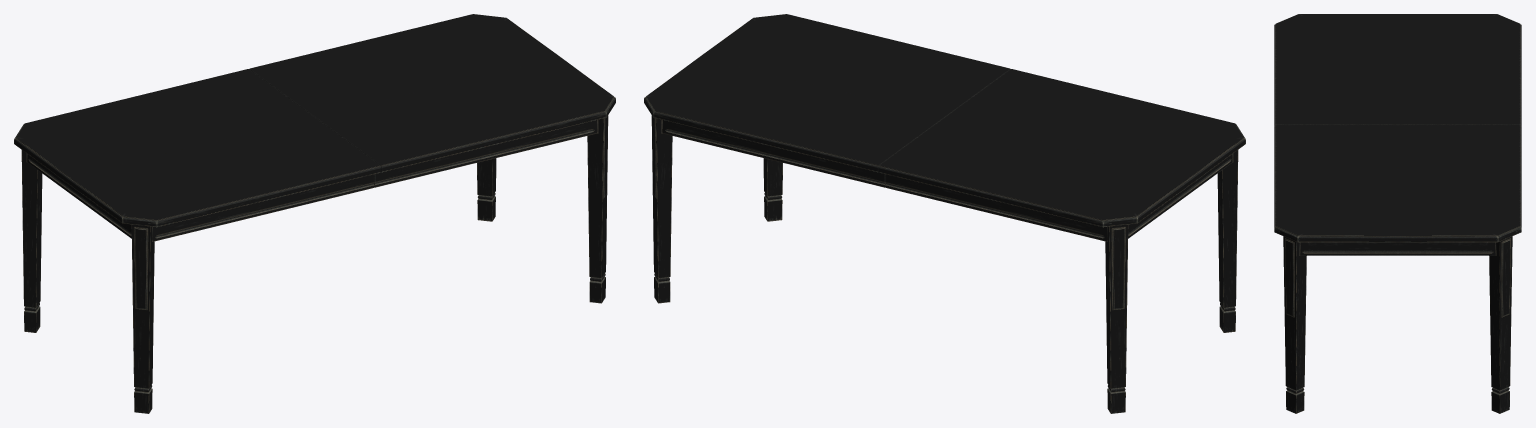
File: example88.gltf
3 views of the same model, side by side, from view 1: azimuth 30°, elevation 25°; view 2: azimuth 150°, elevation 25°; view 3: azimuth 270°, elevation 25° (orthographic). The views are drawn at different scales.
Size of the model in its own units: 203 by 77.4 by 95.
Materials: 2 (1 with a texture image).
